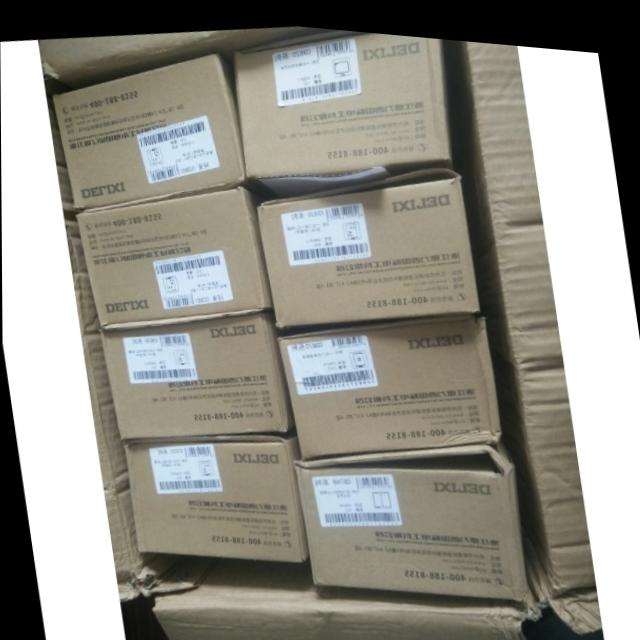box: (234, 24, 455, 196), (255, 159, 482, 324), (293, 434, 527, 593), (275, 307, 504, 454), (52, 48, 250, 208), (76, 182, 275, 328), (100, 306, 294, 437), (125, 429, 309, 557)
